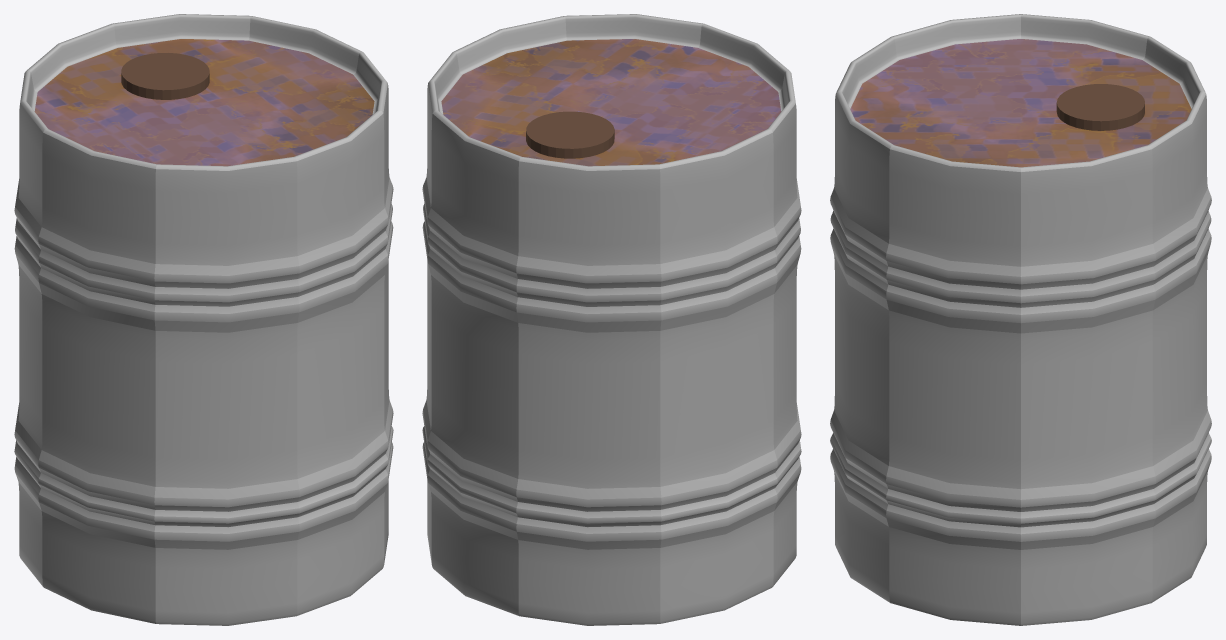
Rendered from purple_barrel.fbx.
3 views of the same model, side by side, from view 1: azimuth 30°, elevation 25°; view 2: azimuth 150°, elevation 25°; view 3: azimuth 270°, elevation 25° (orthographic).
Parts seen in each view (by area): view 1: barrel_uved.004; view 2: barrel_uved.004; view 3: barrel_uved.004.
Part boxes in pixels (x1,y1,x2,y2): barrel_uved.004: [14, 14, 393, 625]; barrel_uved.004: [422, 14, 801, 625]; barrel_uved.004: [830, 14, 1211, 625].
Size of the model in its own units: 73.68 by 97.4 by 73.68.
